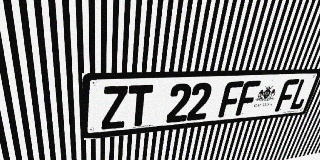2: (166, 83, 193, 123), (187, 82, 213, 121)
F: (218, 81, 244, 118), (235, 80, 261, 116), (274, 79, 300, 112)
L: (288, 78, 313, 110)
T: (127, 85, 153, 127)
Z: (101, 86, 128, 130)
